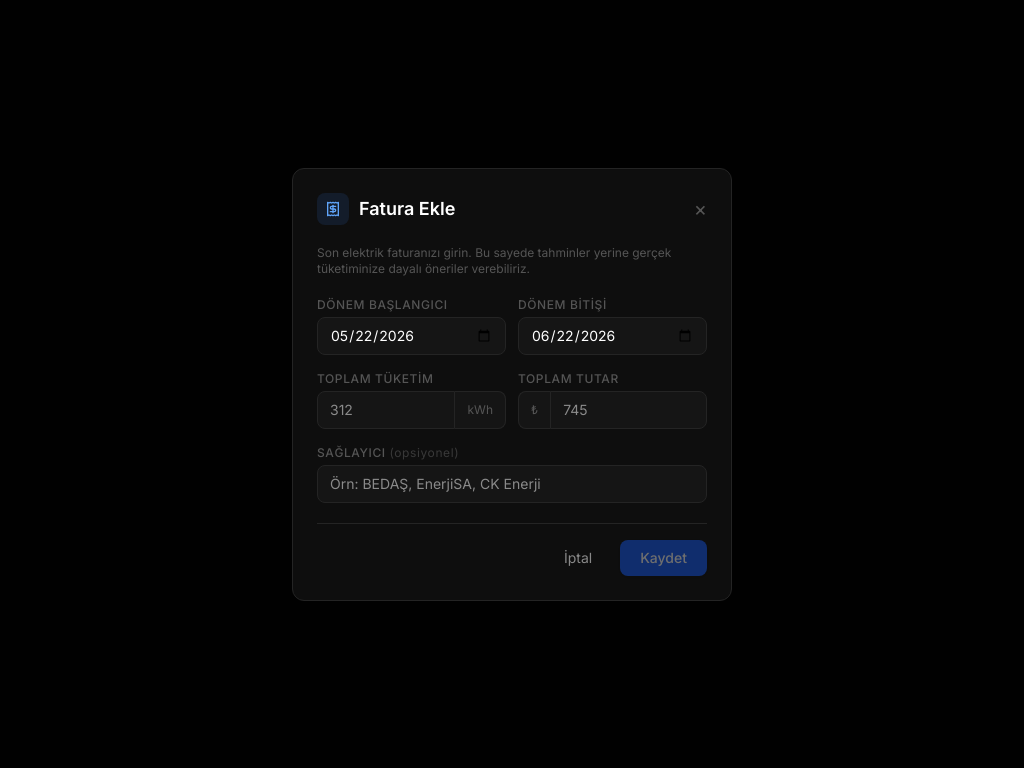
BillEntryModal › shows duplicate period error from service
Type "300" into the number field with placeholder "312" at (386, 410), box [317,390,456,428]
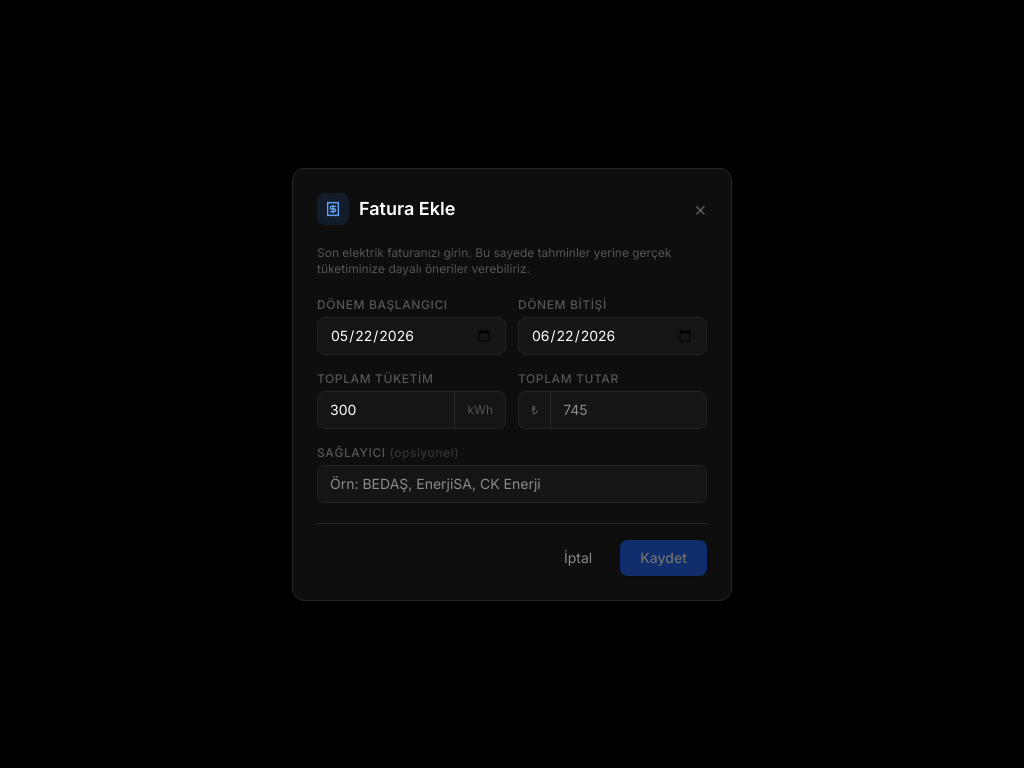
Type "900" into the number field with placeholder "745" at (629, 410), box [550,390,707,428]
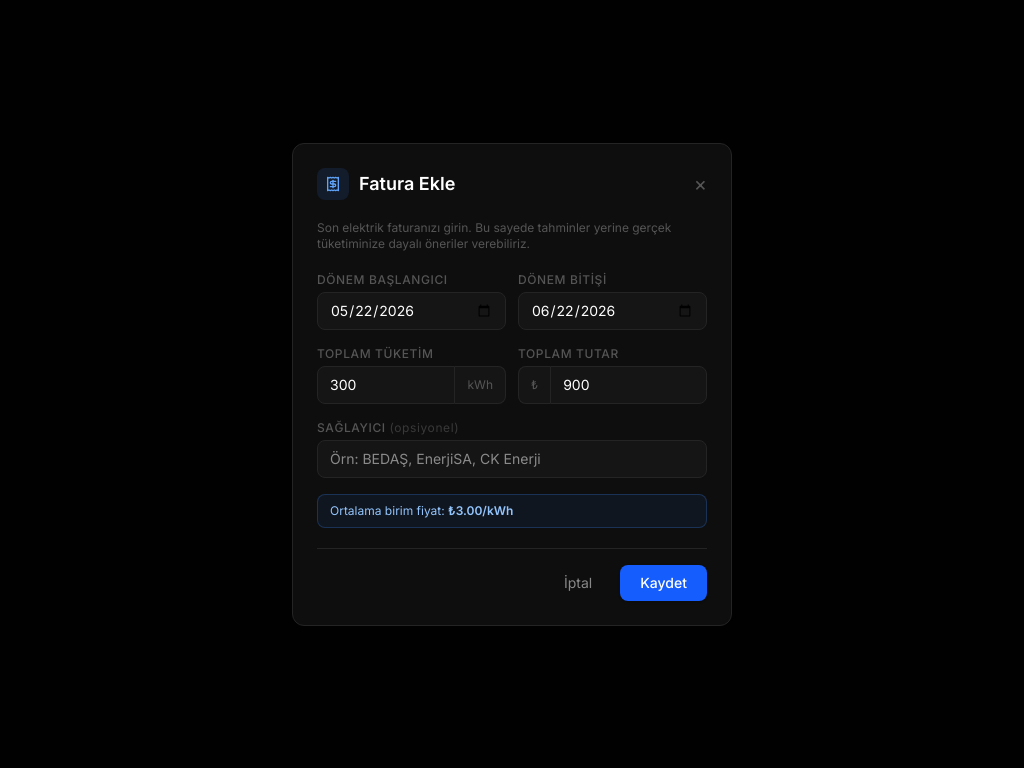
Click the button "Kaydet" at (664, 582), box [620,564,707,600]
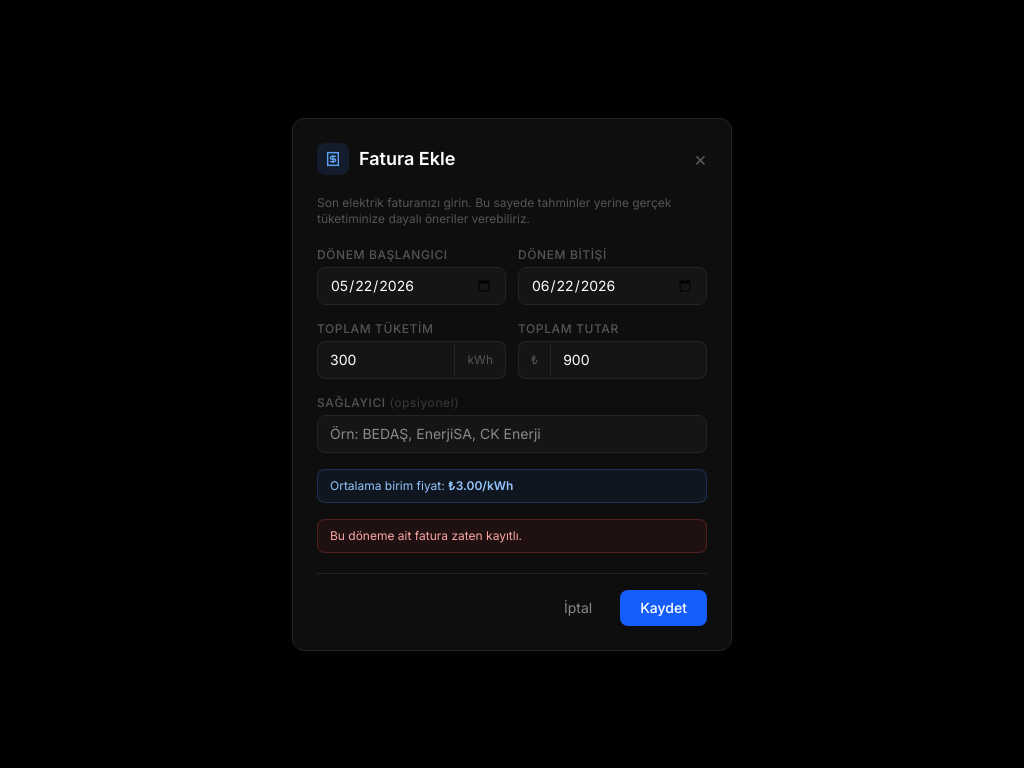
Expected: the text "Bu döneme ait fatura zaten kayıtlı." is shown, [317,518,707,552]
